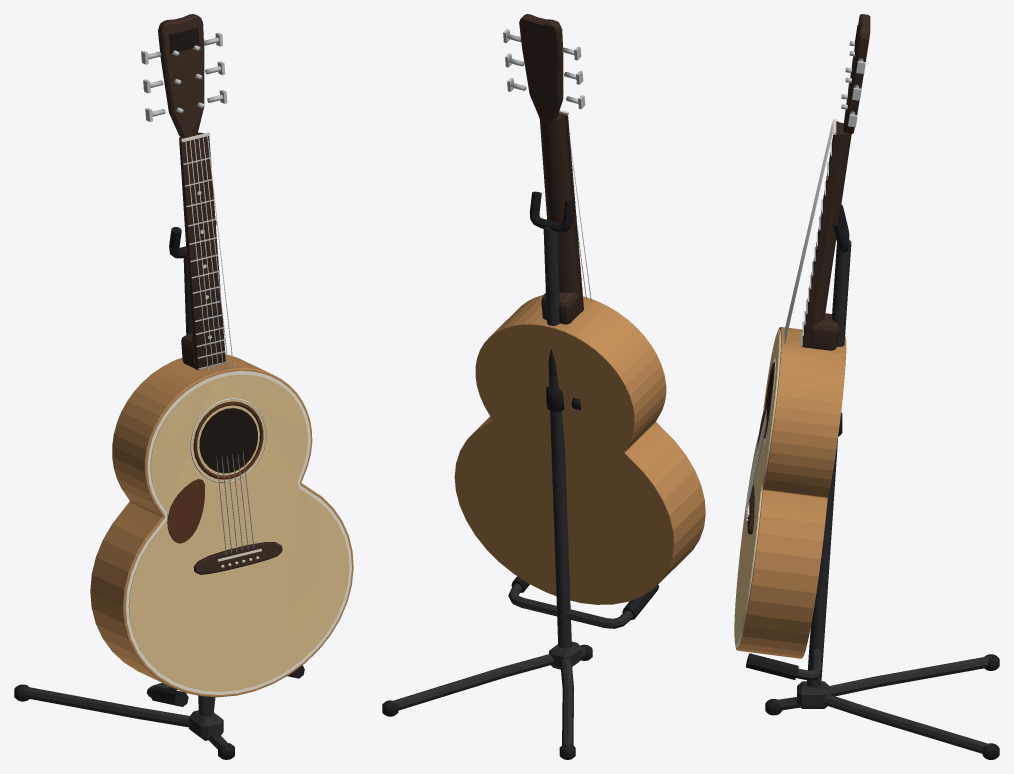
The model's file is guitarAcoustic.glb.
3 renders of one model, left to right at view 1: azimuth 30°, elevation 25°; view 2: azimuth 150°, elevation 25°; view 3: azimuth 270°, elevation 25°, orthographic. The views are drawn at different scales.
Parts seen in each view (by area): view 1: guitar, stand; view 2: guitar, stand; view 3: guitar, stand.
Part boxes in pixels (x1,y1,x2,y2): guitar: (90, 14, 353, 697); stand: (14, 220, 304, 759); guitar: (454, 14, 705, 604); stand: (382, 191, 659, 759); guitar: (734, 14, 870, 658); stand: (746, 204, 999, 759).
Size of the model in its own units: 0.3954 by 1.16 by 0.403.
